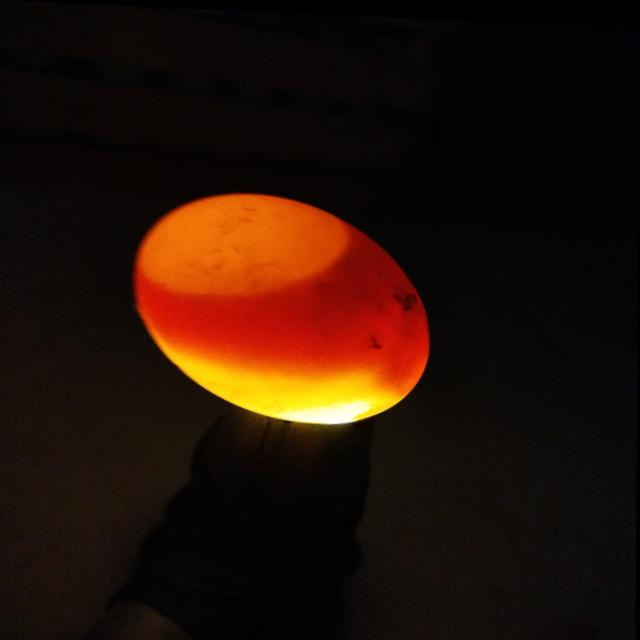Area Infectada: (313, 227, 424, 347)
